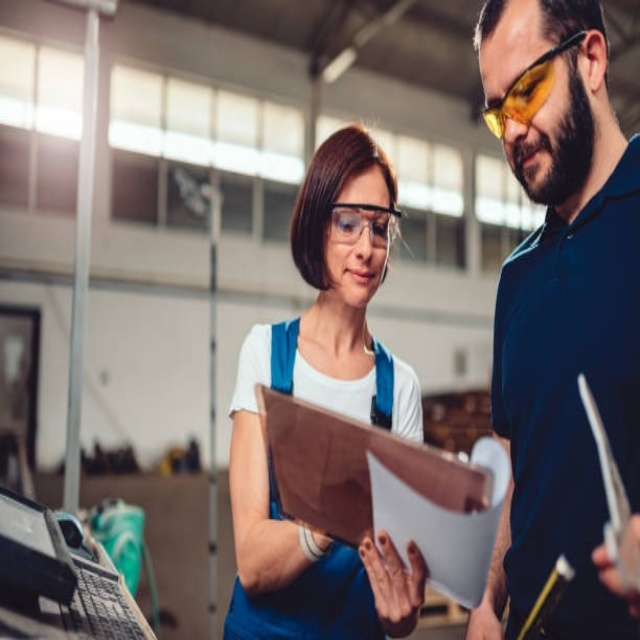Gafas: (480, 30, 588, 138), (329, 205, 401, 249)
Sin_guantes: (355, 529, 431, 627)
Sin_mascara: (512, 138, 548, 191), (342, 260, 376, 298)
